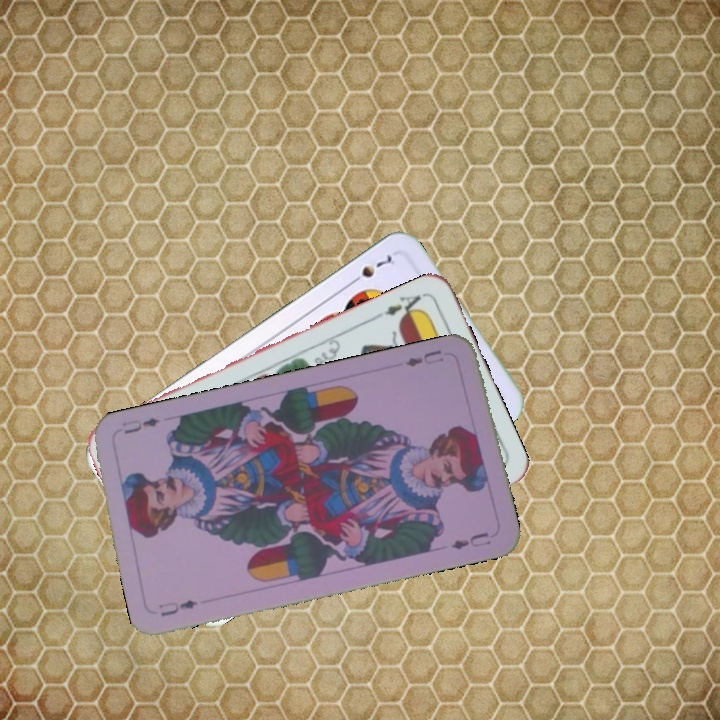EA: (372, 289, 428, 322)
EU: (154, 595, 200, 619), (401, 345, 446, 369)
S7: (345, 251, 395, 288)
